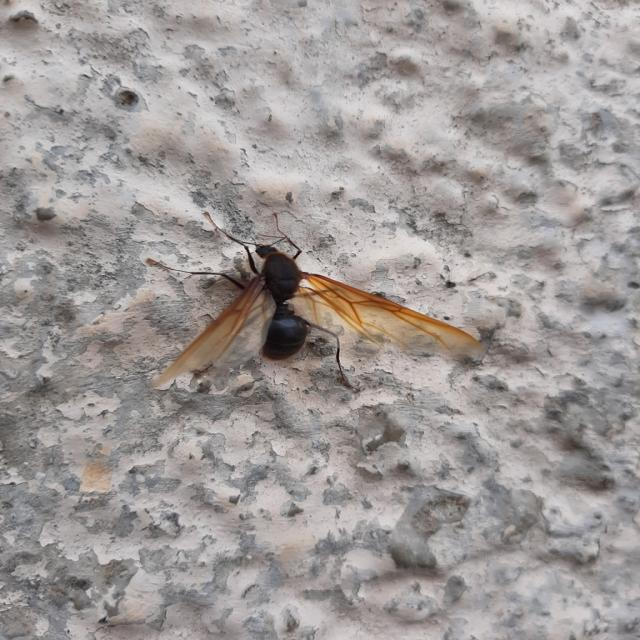Alive-Male-Alate: (145, 211, 486, 394)
